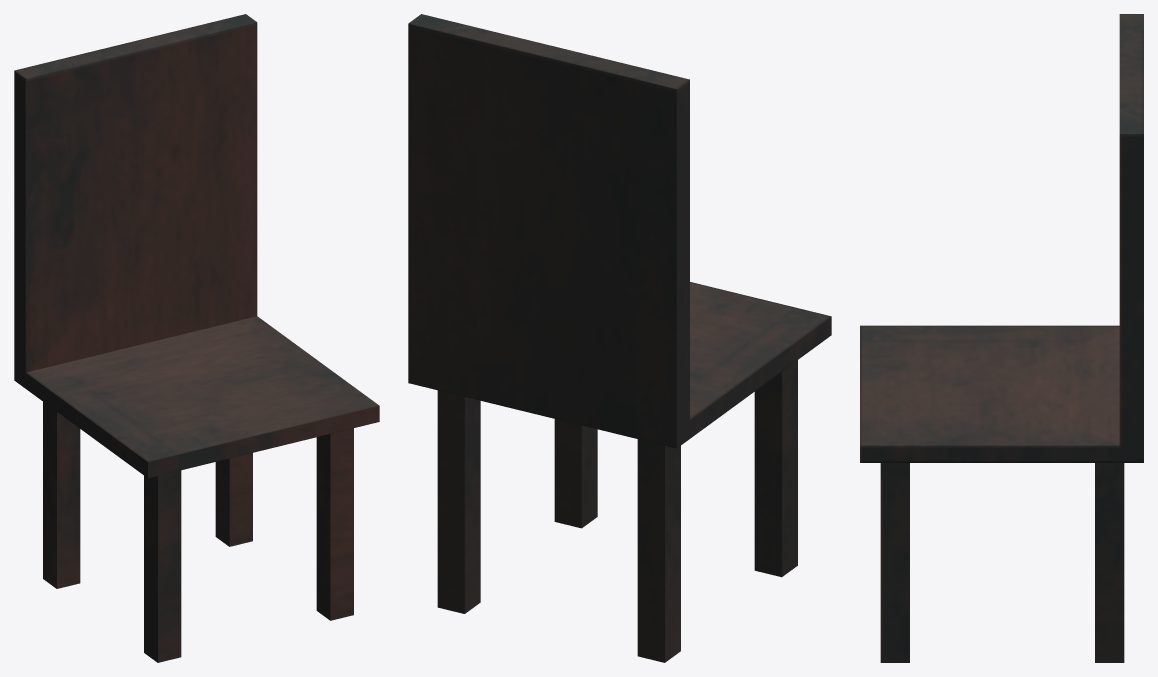
Rendered from StreetStructures_Cadeira.fbx.
The picture shows the model from 3 angles, left to right: view 1: azimuth 30°, elevation 25°; view 2: azimuth 150°, elevation 25°; view 3: azimuth 270°, elevation 25°; orthographic projection. The views are drawn at different scales.
Visible parts, largest first — view 1: Cadeira; view 2: Cadeira; view 3: Cadeira.
Boxes of the visible parts, x1,y1,x2,y2 form: Cadeira: [14, 14, 379, 662]; Cadeira: [408, 14, 831, 662]; Cadeira: [860, 14, 1143, 662].
Bounding box in the file's own units: 63.29 × 132 × 63.29.
